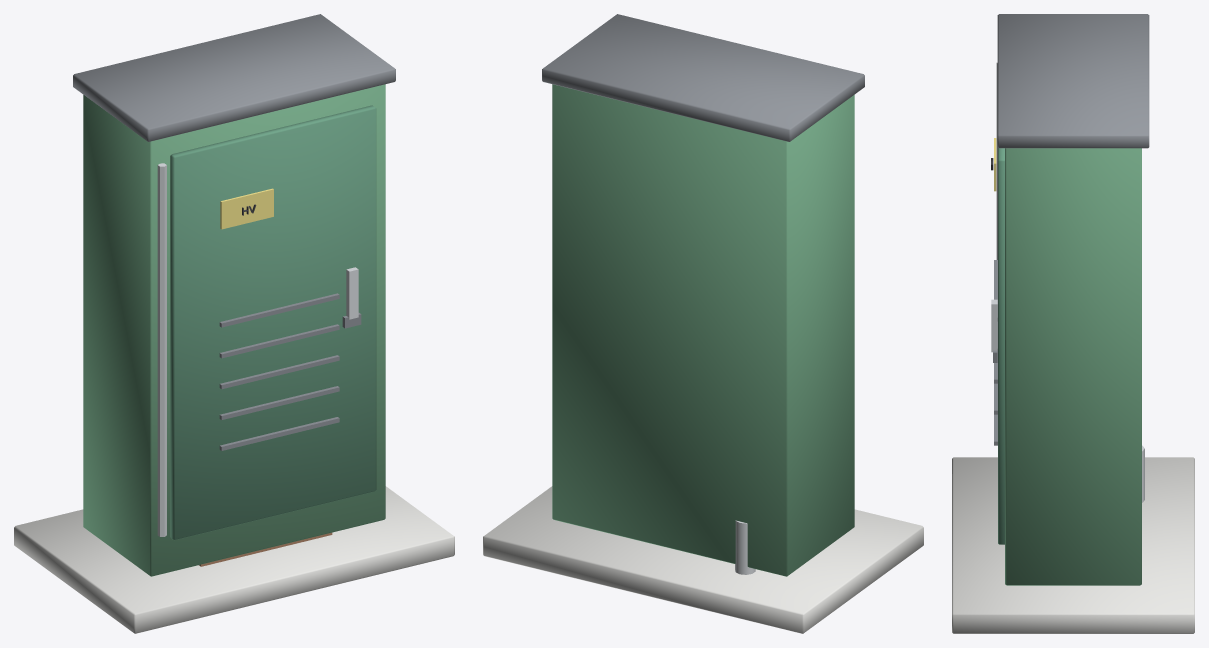
The model's file is Cabinet_Electrical.fbx.
The picture shows the model from 3 angles, left to right: view 1: azimuth 30°, elevation 25°; view 2: azimuth 150°, elevation 25°; view 3: azimuth 270°, elevation 25°; orthographic projection.
Visible parts, largest first — view 1: LOD0; view 2: LOD0; view 3: LOD0.
Part boxes in pixels (<box>): LOD0: <box>14,14,454,633</box>; LOD0: <box>483,14,923,633</box>; LOD0: <box>952,14,1194,633</box>.
Size of what is drawn, in the model's own units: 98 by 140 by 64.
